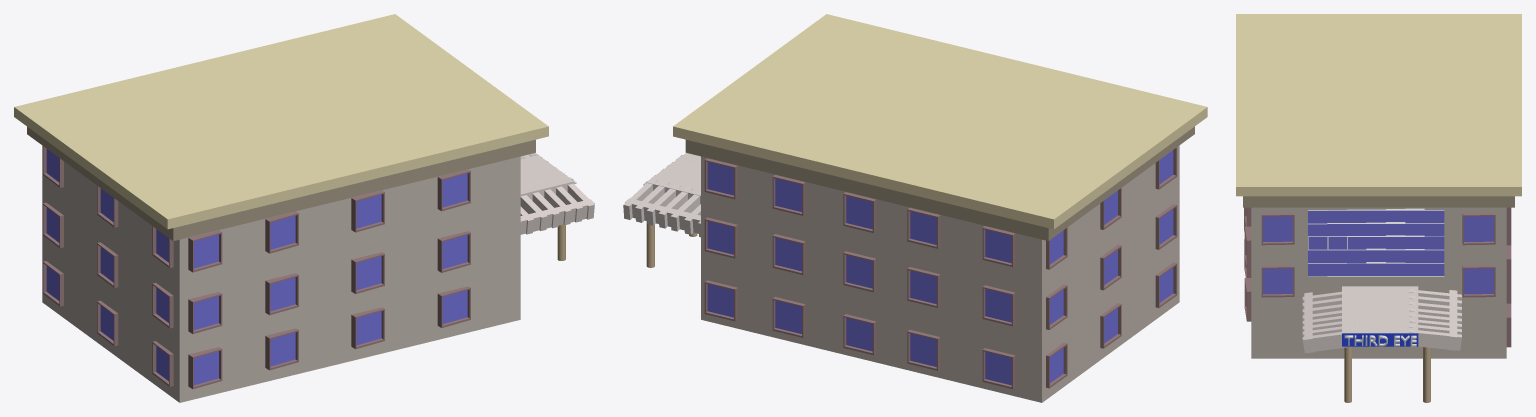
File: thirdeye.glb
3 renders of one model, left to right at view 1: azimuth 30°, elevation 25°; view 2: azimuth 150°, elevation 25°; view 3: azimuth 270°, elevation 25°, orthographic. The views are drawn at different scales.
Parts seen in each view (by area): view 1: Cube.002, Cube, Cube.001, Cube.040, Cube.031, Cube.035, Cube.027, Cube.036, Cube.028, Cube.032, Cube.029, Cube.037 (+13 smaller); view 2: Cube.002, Cube, Cube.001, Cube.040, Cube.008, Cube.011, Cube.015, Cube.017, Cube.003, Cube.004, Cube.006, Cube.007 (+16 smaller); view 3: Cube.002, Cube, Plane.001, Cube.040, Cube.001, Cube.042, Cube.043, Cube.039, Cube.041, Text, Cylinder, Cylinder.001 (+4 smaller).
Part boxes in pixels (x1,y1,x2,y2): Cube.002: [14, 14, 548, 229]; Cube: [42, 145, 520, 402]; Cube.001: [27, 126, 535, 241]; Cube.040: [520, 153, 594, 234]; Cube.031: [188, 292, 222, 333]; Cube.035: [188, 347, 222, 389]; Cube.027: [188, 230, 222, 272]; Cube.036: [265, 328, 298, 370]; Cube.028: [265, 211, 298, 253]; Cube.032: [265, 273, 298, 315]; Cube.029: [351, 190, 384, 232]; Cube.037: [351, 307, 384, 349]; Cube.002: [673, 14, 1207, 229]; Cube: [701, 145, 1179, 402]; Cube.001: [685, 126, 1194, 240]; Cube.040: [623, 153, 700, 237]; Cube.008: [704, 280, 737, 321]; Cube.011: [907, 330, 940, 370]; Cube.015: [843, 251, 876, 292]; Cube.017: [982, 285, 1015, 326]; Cube.003: [704, 158, 737, 199]; Cube.004: [772, 175, 805, 215]; Cube.006: [907, 207, 940, 248]; Cube.007: [982, 226, 1015, 266]; Cube.002: [1236, 14, 1521, 196]; Cube: [1251, 207, 1506, 358]; Plane.001: [1308, 208, 1444, 276]; Cube.040: [1302, 286, 1461, 353]; Cube.001: [1243, 196, 1514, 207]; Cube.042: [1462, 265, 1495, 297]; Cube.043: [1261, 265, 1294, 297]; Cube.039: [1462, 213, 1495, 245]; Cube.041: [1261, 213, 1294, 245]; Text: [1344, 335, 1416, 346]; Cylinder: [1344, 347, 1351, 402]; Cylinder.001: [1423, 347, 1430, 402].
Size of the model in its own units: 21.85 by 8.7 by 12.44.
